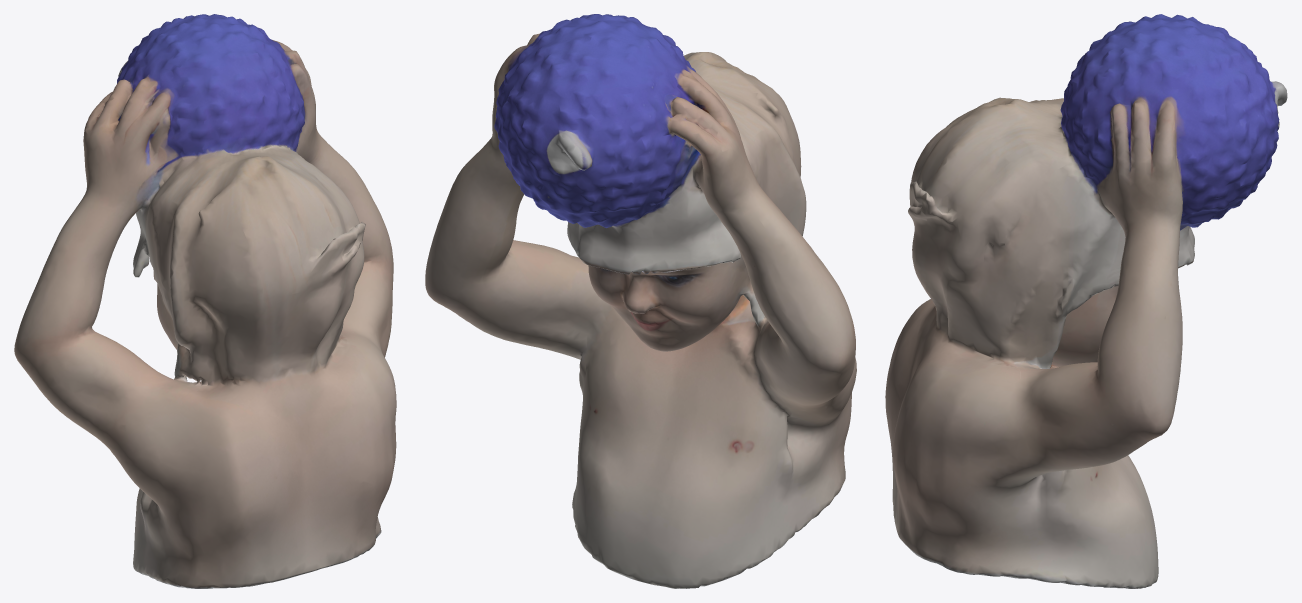
3 renders of one model, left to right at view 1: azimuth 30°, elevation 25°; view 2: azimuth 150°, elevation 25°; view 3: azimuth 270°, elevation 25°, orthographic. The views are drawn at different scales.
Parts seen in each view (by area): view 1: tripo_node_d963da3c-7460-45cc-a4ae-6f418509b0a4; view 2: tripo_node_d963da3c-7460-45cc-a4ae-6f418509b0a4; view 3: tripo_node_d963da3c-7460-45cc-a4ae-6f418509b0a4.
Part boxes in pixels (x1,y1,x2,y2): tripo_node_d963da3c-7460-45cc-a4ae-6f418509b0a4: [14, 14, 396, 588]; tripo_node_d963da3c-7460-45cc-a4ae-6f418509b0a4: [425, 14, 856, 588]; tripo_node_d963da3c-7460-45cc-a4ae-6f418509b0a4: [885, 14, 1287, 588].
Size of the model in its own units: 0.7726 by 1 by 0.6462.
1 material, 1 textured.
